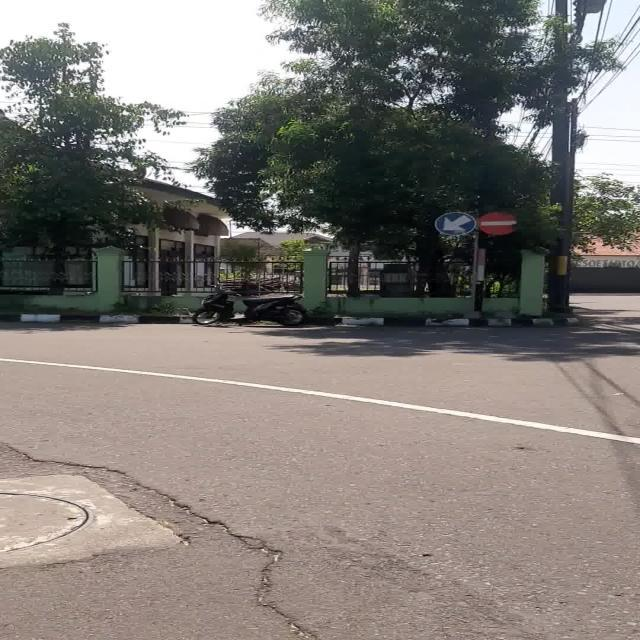Lajur Kiri: (435, 212, 476, 236)
